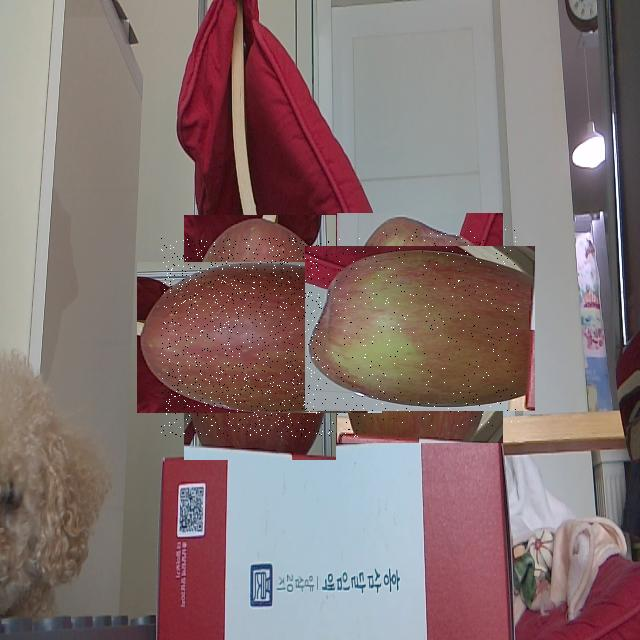apple: (161, 238, 359, 437), (321, 229, 519, 427)
